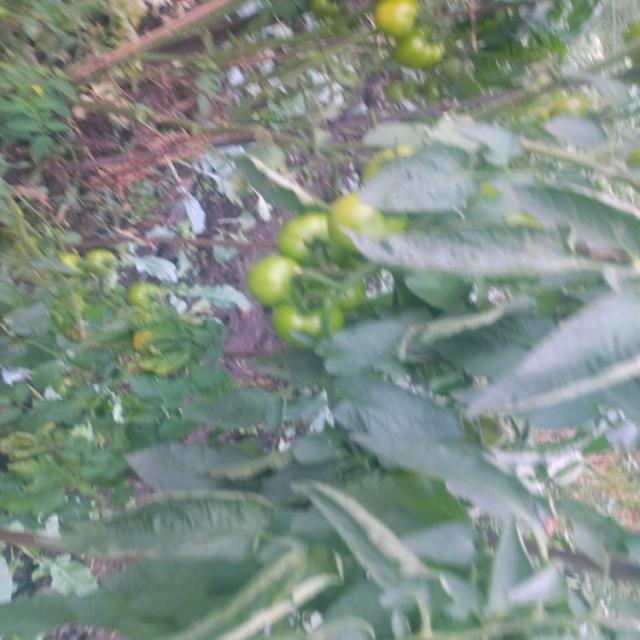tomato: (256, 277, 354, 356), (329, 190, 418, 248), (266, 213, 344, 267), (242, 256, 304, 310), (390, 37, 464, 78), (366, 1, 442, 39), (325, 275, 386, 310), (558, 79, 594, 119), (79, 246, 125, 277), (122, 273, 159, 302)
